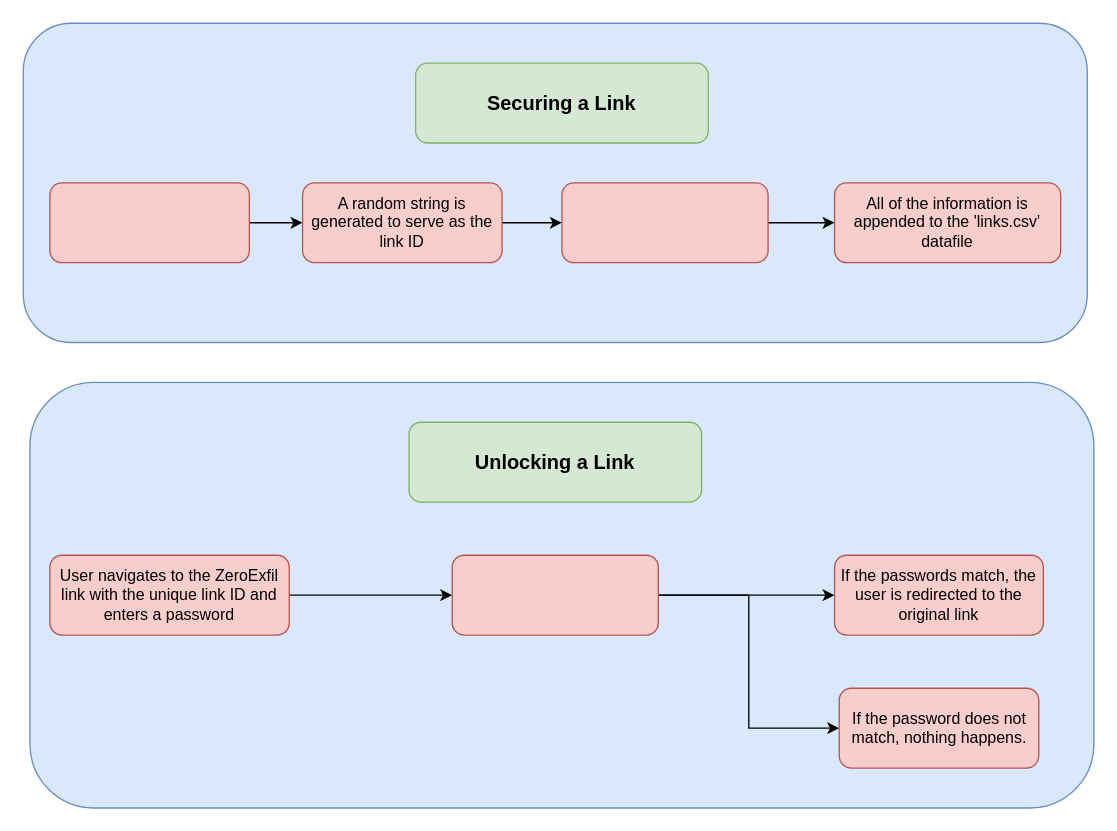
Image size: 1117x831. Some labels were removed from this diagram. The shapes that lost their labels are listed below. From the top down, each one's centre as x and y in pixels, then its label:
[149,222]: User provides a link and password
[664,222]: The provided password is hashed and salted
[554,594]: The provided password is checked against the stored password
